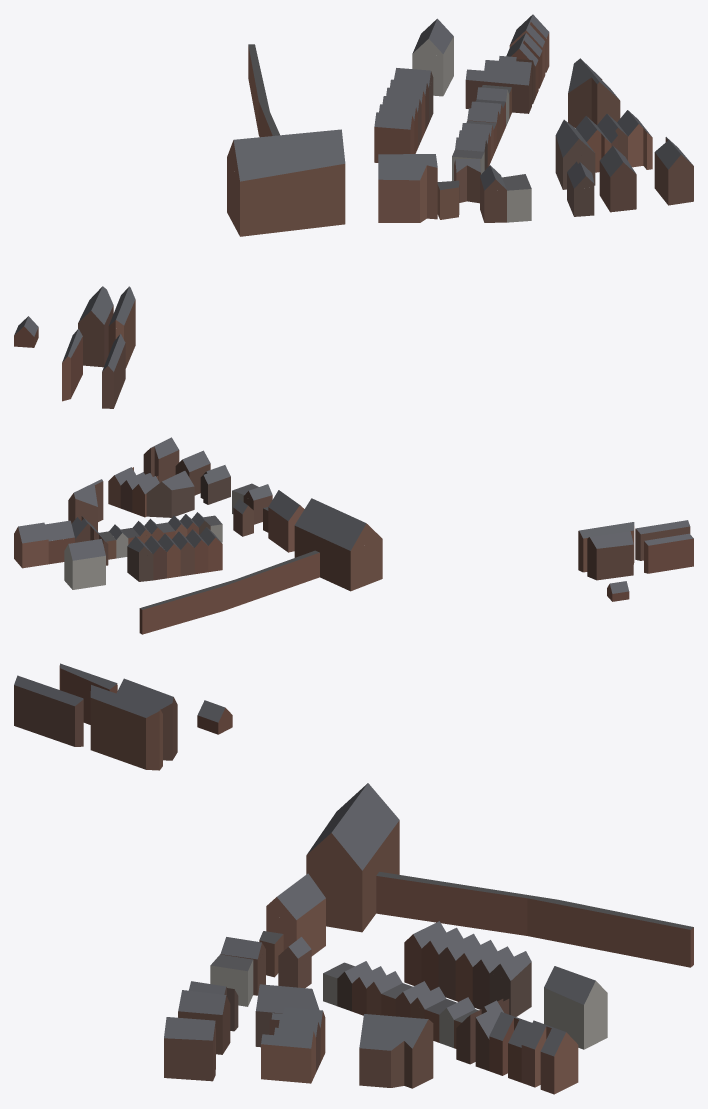
File: 4_4.far.glb
3 views of the same model, one above another, from view 1: azimuth 30°, elevation 25°; view 2: azimuth 150°, elevation 25°; view 3: azimuth 270°, elevation 25° (orthographic). The views are drawn at different scales.
Parts seen in each view (by area): view 1: 4_4_far; view 2: 4_4_far; view 3: 4_4_far.
Boxes of the visible parts, x1=… form: 4_4_far: x1=14, y1=14, x2=693, y2=408; 4_4_far: x1=14, y1=437, x2=693, y2=634; 4_4_far: x1=14, y1=663, x2=693, y2=1094.
Size of the model in its own units: 246 by 28.1 by 183.
